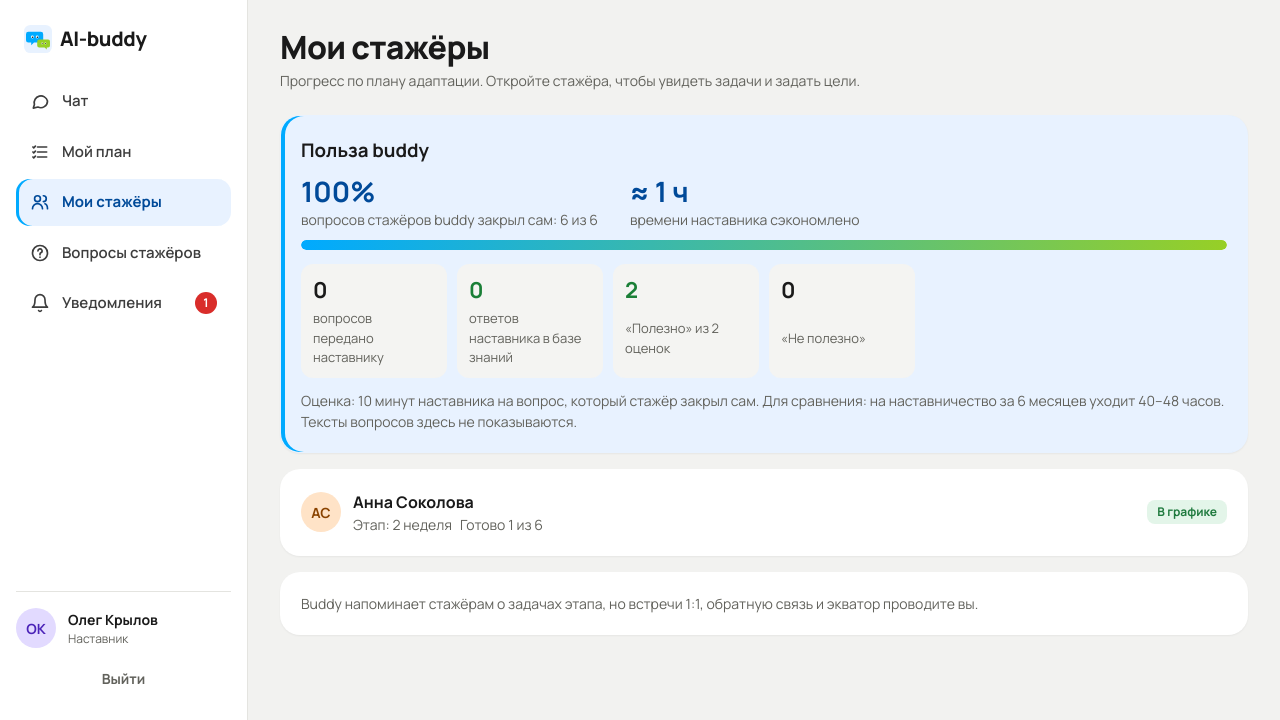
Test: mentor and lead views › S1_R08: the mentor sees team interns with progress and opens one plan read-only
The image size is (1280, 720).
Step 1. Click the link with aria-label "План: Анна Соколова" → (321, 512), box [280,469,1248,556]
(page scrolled)
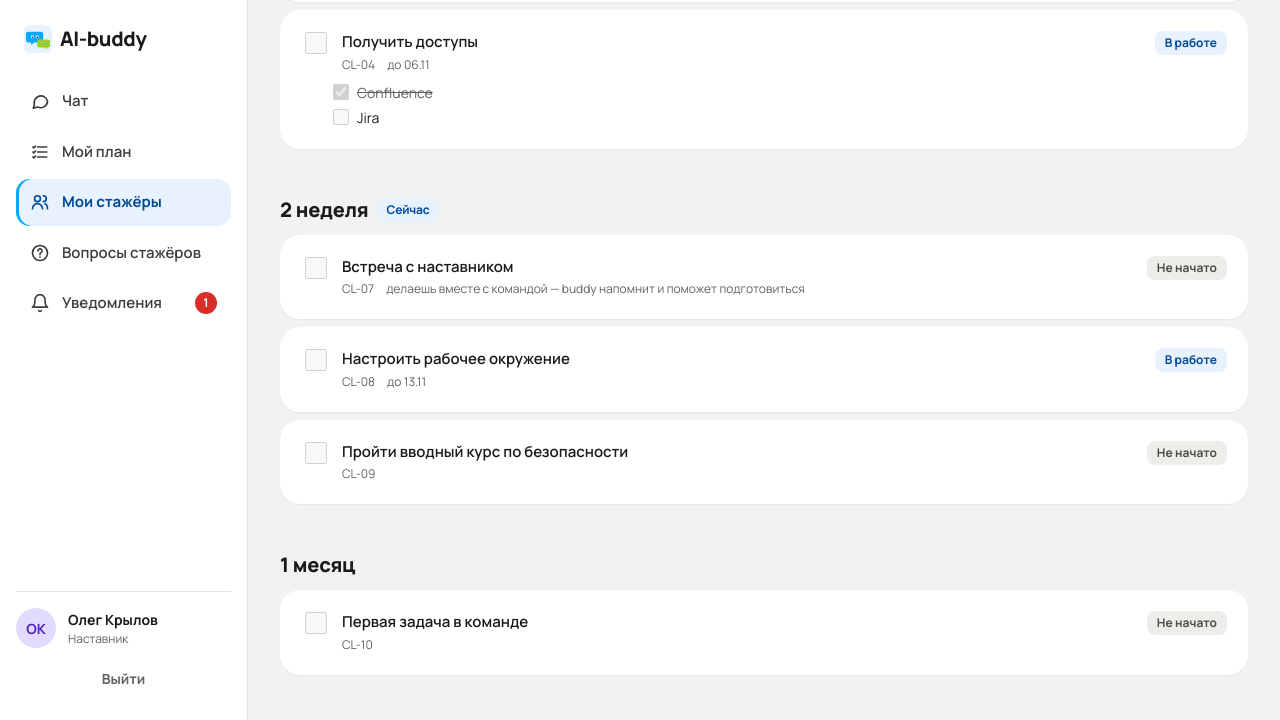
Expected: the checkbox named "Отметить выполненной: Настроить рабочее окружение" is disabled, [305,349,327,371]
